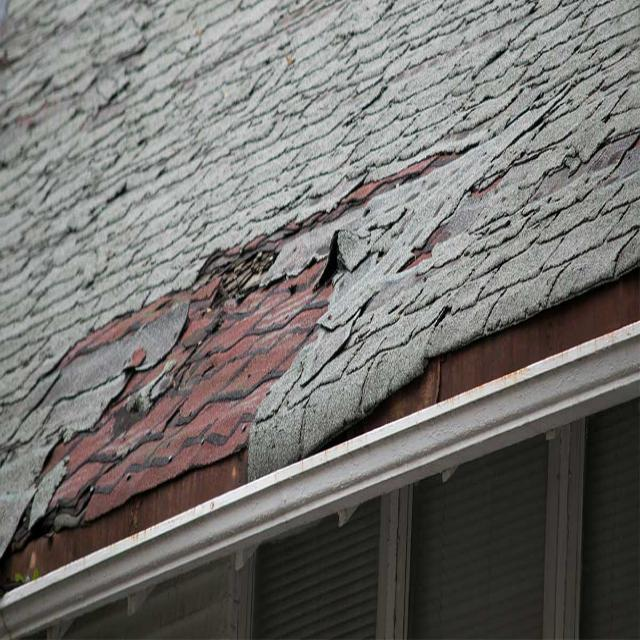damage: (0, 132, 485, 594)
